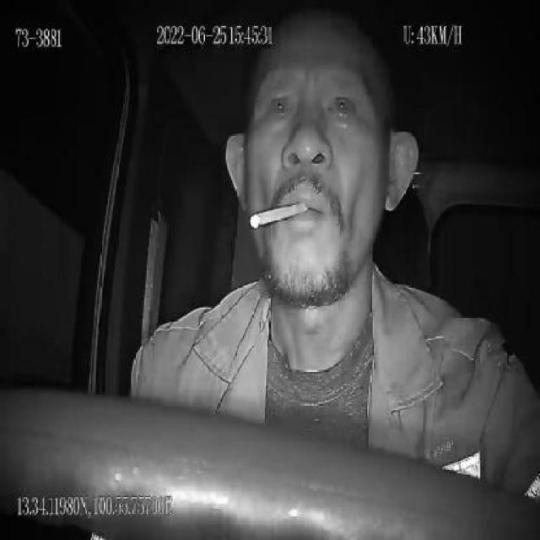smoking: (252, 200, 307, 228)
